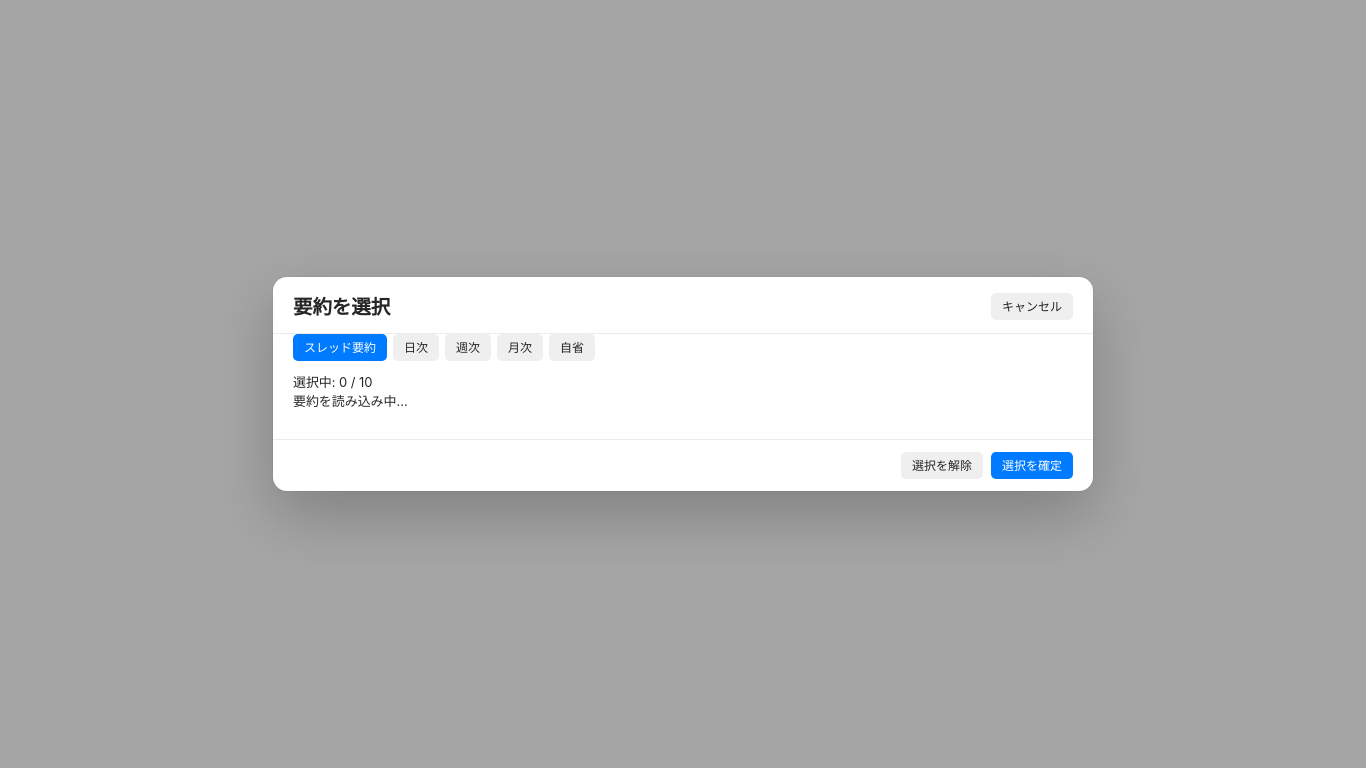
Scenario: SummarySelectionModal › renders reflection preview fields with human labels instead of enum numbers
The image size is (1366, 768).
Click the tab "自省" at [572, 348], box [549,334,595,361]
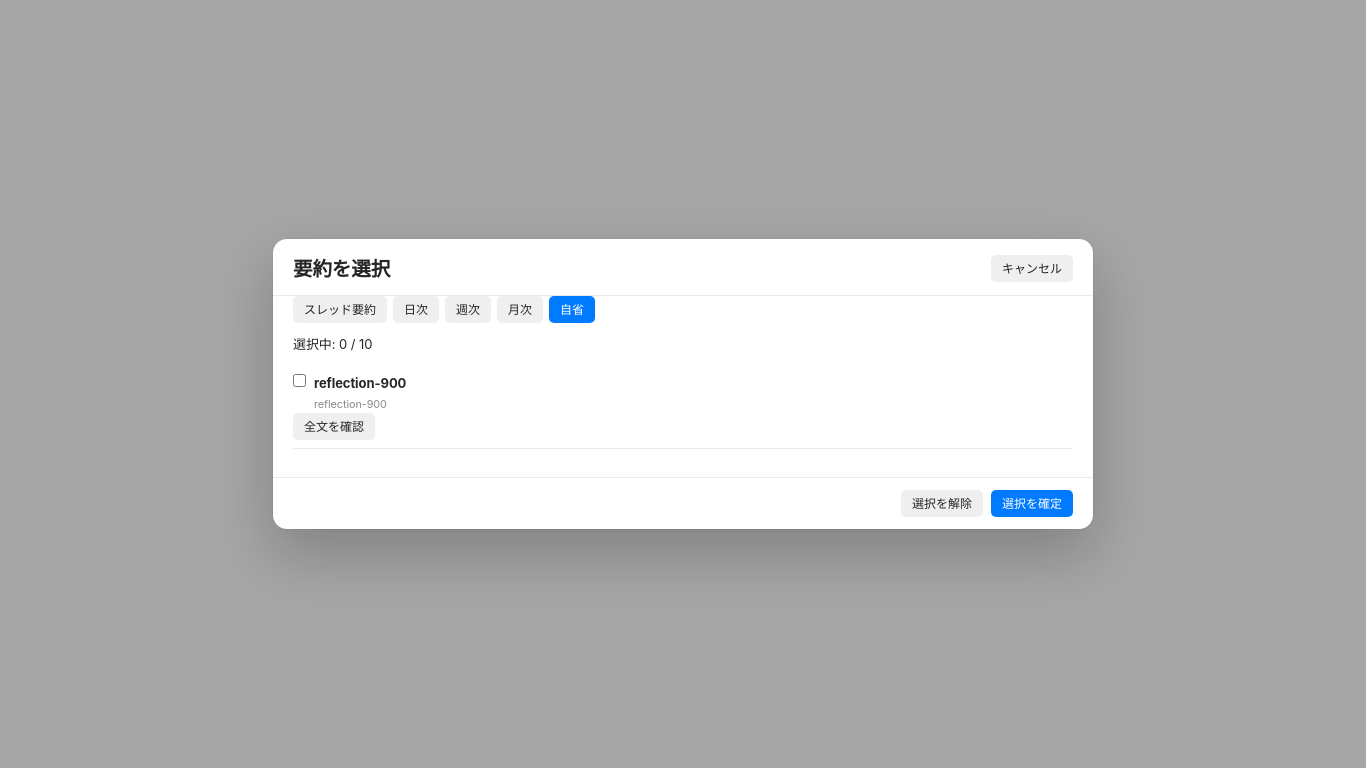
Click the button "全文を確認" at [334, 426], box [293,413,375,440]
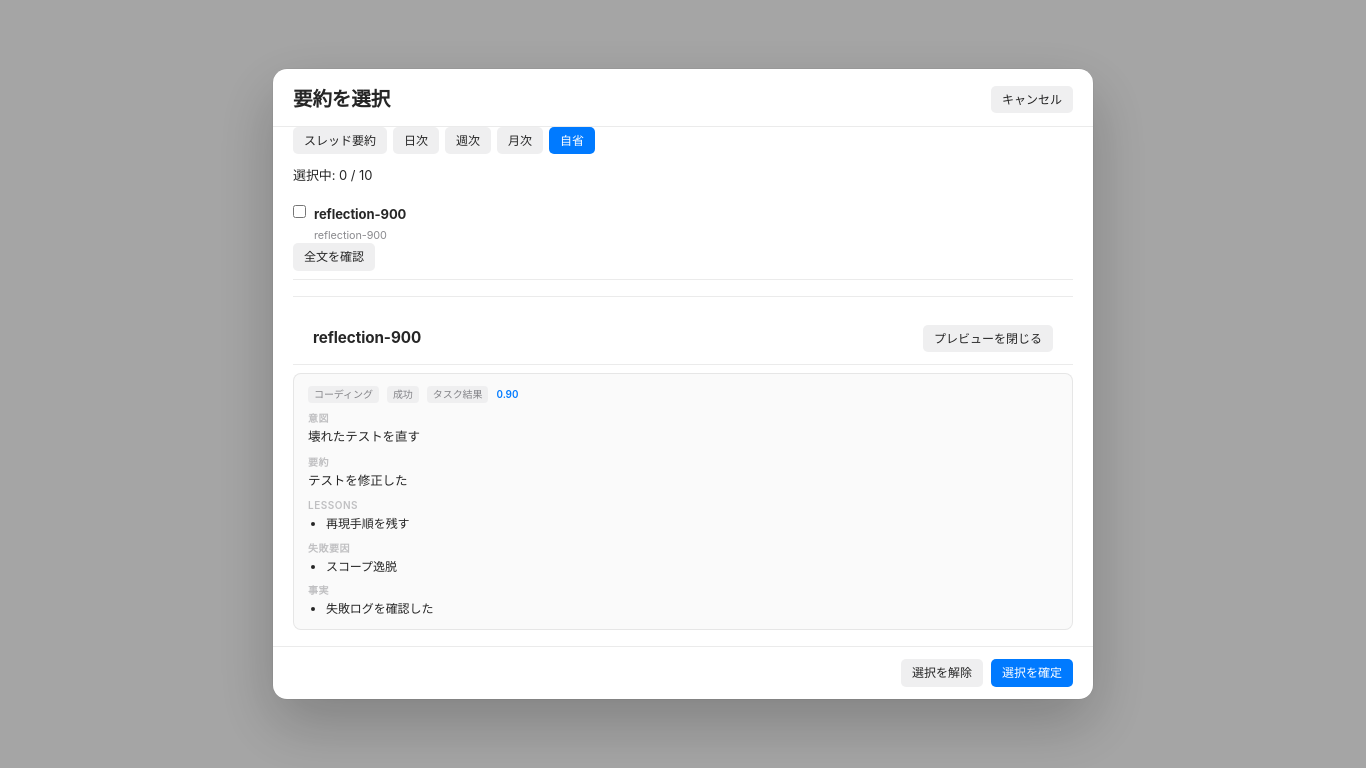
Expected: the text "コーディング" is shown, [308,386,379,403]
Expected: the text "成功" is shown, [387,386,419,403]
Expected: the list item "スコープ逸脱" is shown, [326,559,397,574]
